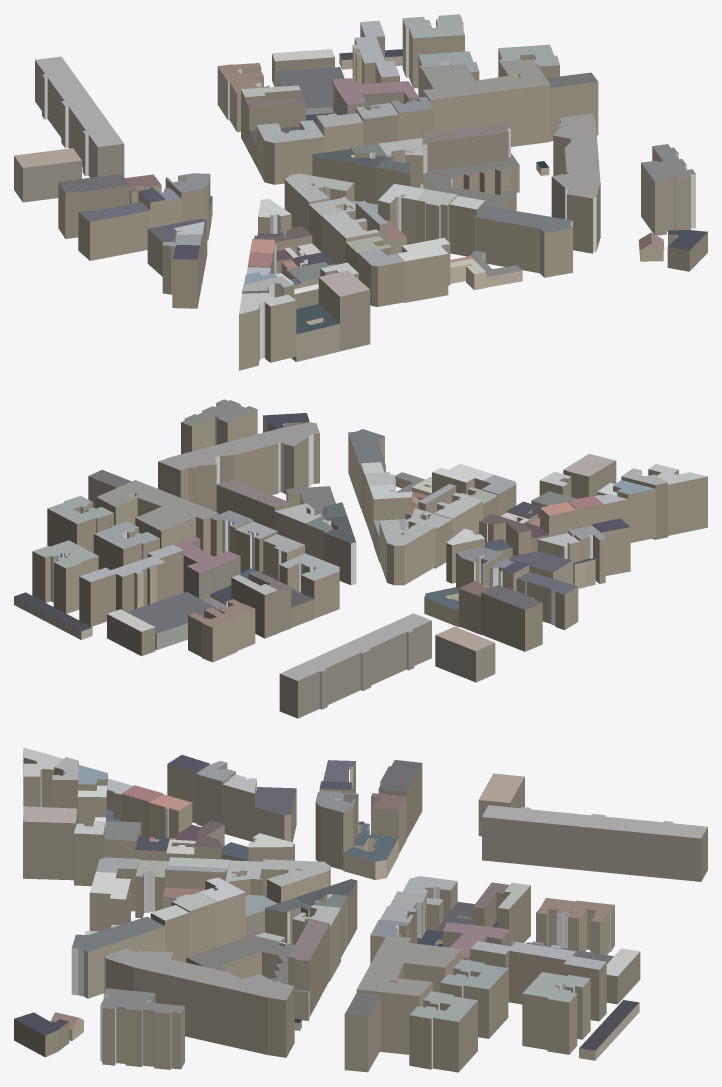
3 renders of one model, top to bottom at view 1: azimuth 30°, elevation 25°; view 2: azimuth 150°, elevation 25°; view 3: azimuth 270°, elevation 25°, orthographic. The views are drawn at different scales.
Parts seen in each view (by area): view 1: tuile; view 2: tuile; view 3: tuile.
Part boxes in pixels (box(x1,y1,x2,y2)): tuile: box(14, 14, 707, 370); tuile: box(14, 399, 707, 718); tuile: box(14, 747, 707, 1072).
Size of the model in its own units: 264 by 32.4 by 291.
